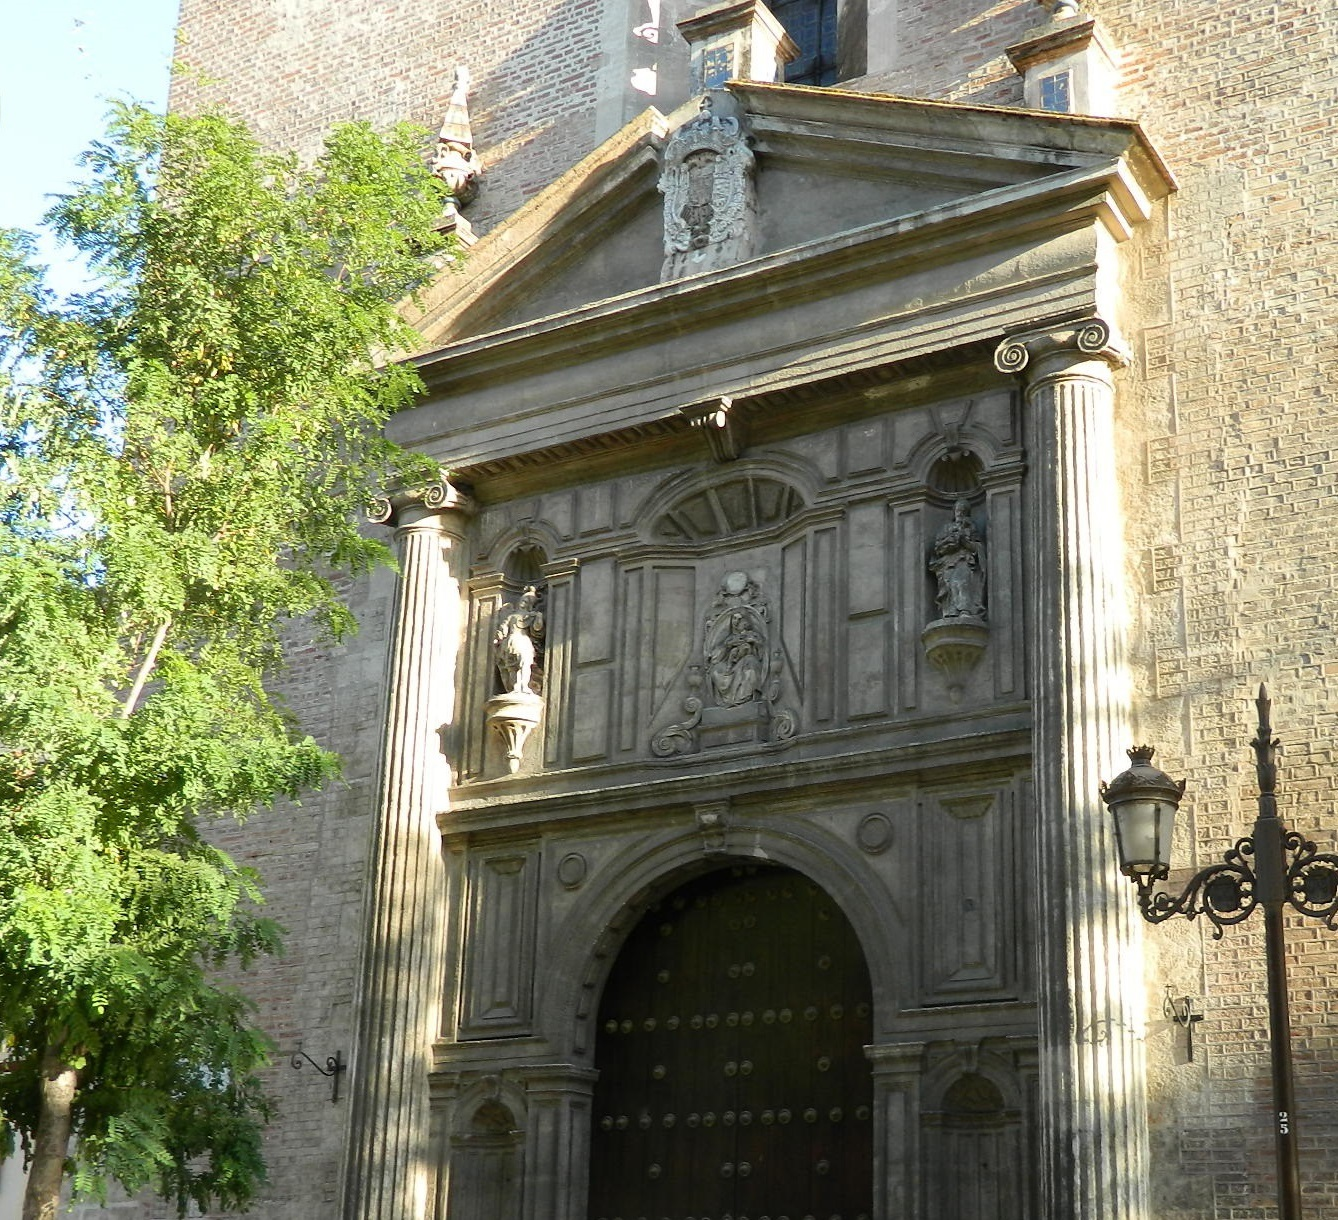arco-medio-punto: (565, 838, 896, 1083)
fronton: (315, 68, 1166, 393)
